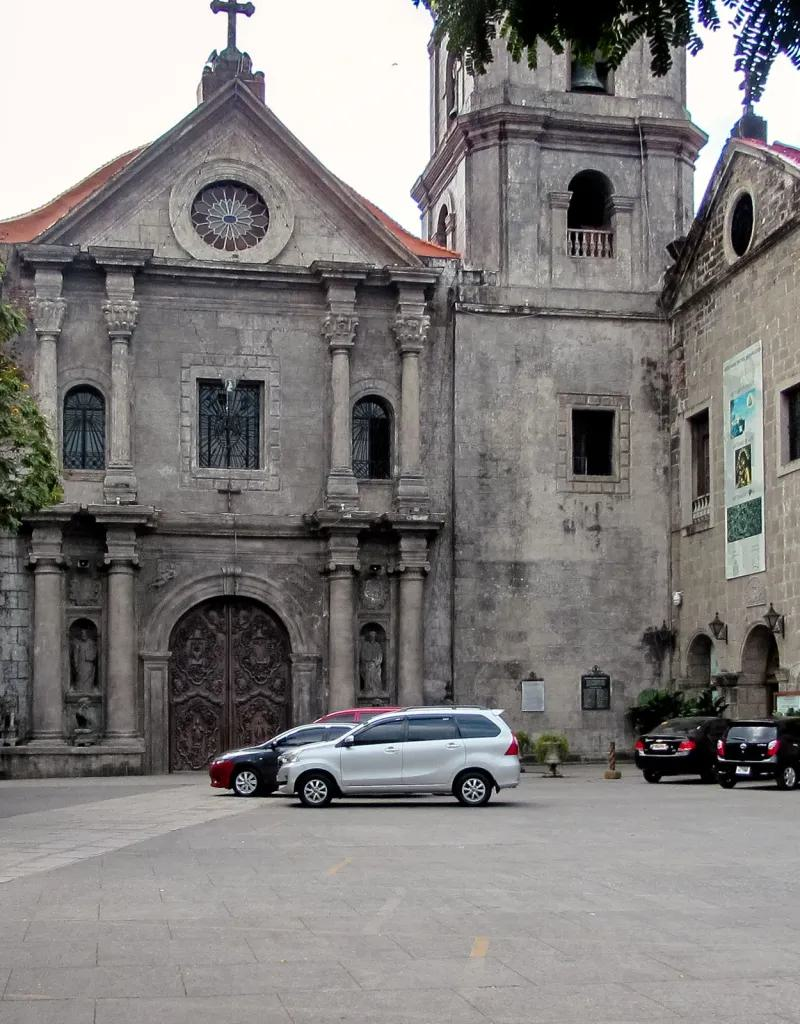Environmental Damage: (640, 362, 677, 431)
San Agustin Church: (16, 3, 683, 766)
